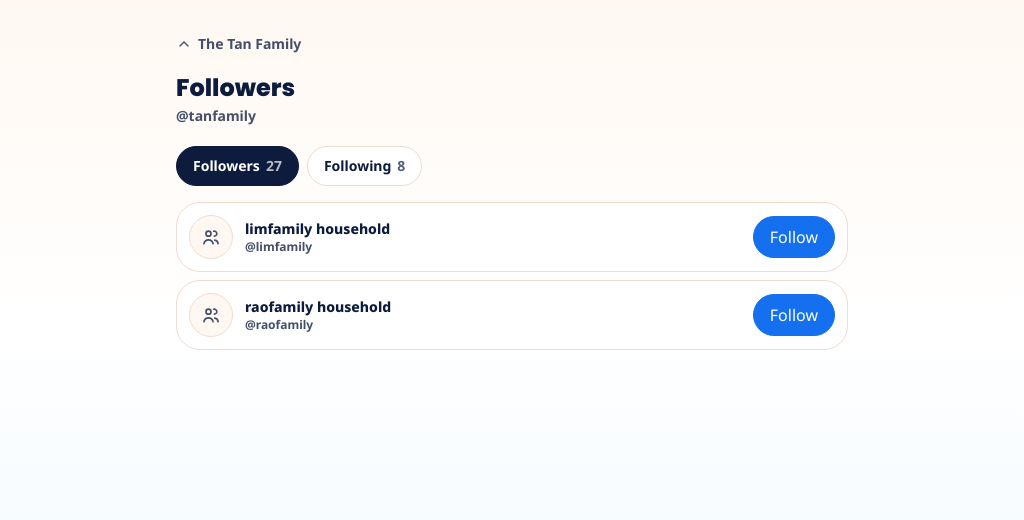
Scenario: OwnerConnectionsView › follows one household from the list without touching the others
The width and height of the screenshot is (1024, 520).
Click the button with test id "follow-button" at (794, 237), box left=753, top=216, right=835, bottom=258
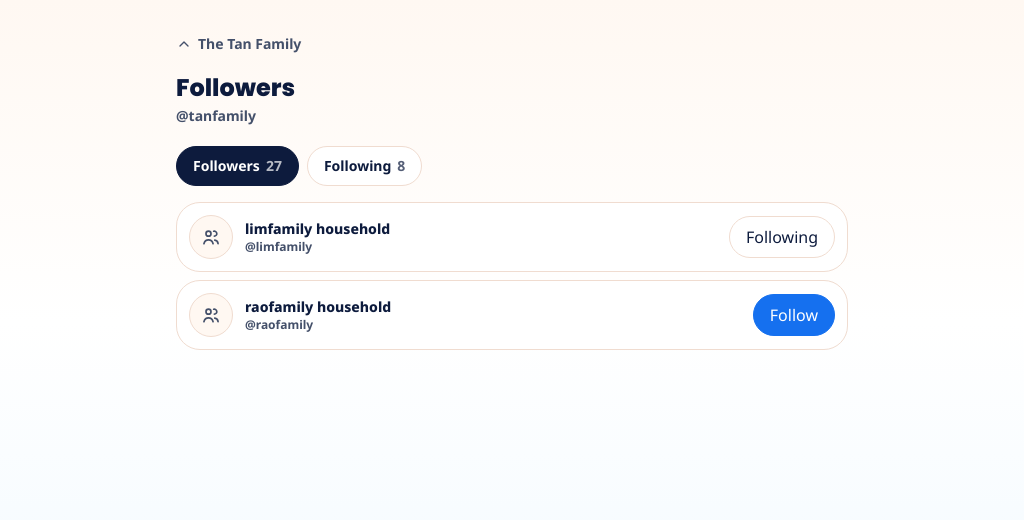
Expected: the button with test id "follow-button" reads "Follow", left=753, top=294, right=835, bottom=336
Expected: the button with test id "follow-button" reads "Following", left=729, top=216, right=835, bottom=258
